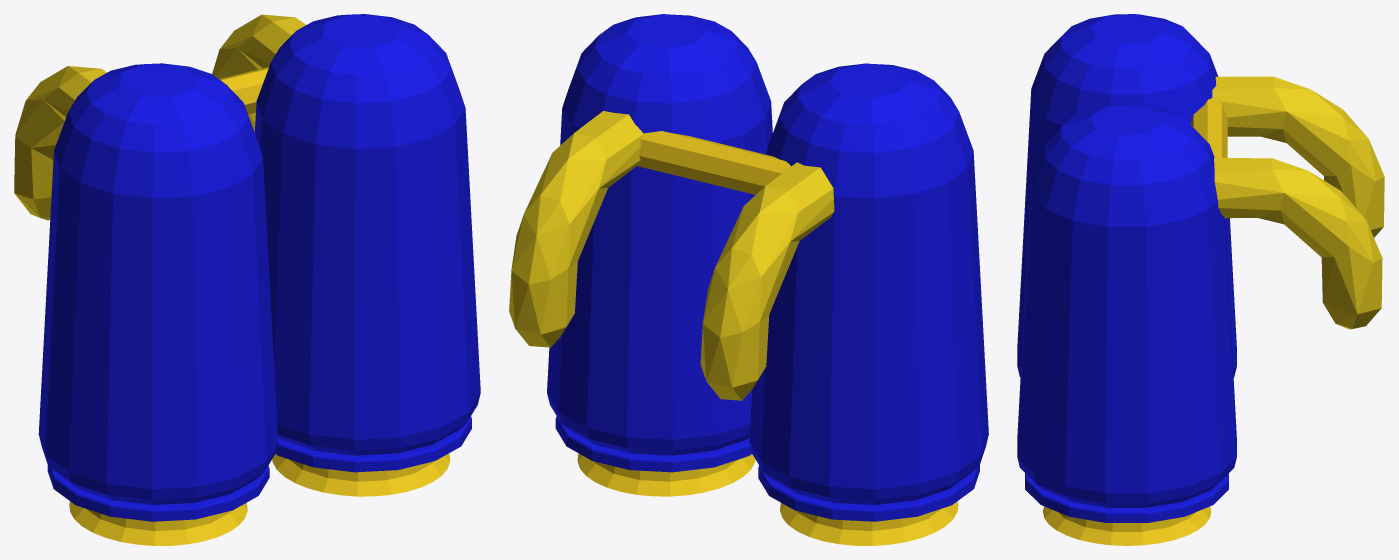
Rendered from reaktivnyranets2.fbx.
3 renders of one model, left to right at view 1: azimuth 30°, elevation 25°; view 2: azimuth 150°, elevation 25°; view 3: azimuth 270°, elevation 25°, orthographic. The views are drawn at different scales.
Visible parts, largest first — view 1: Cylinder.001, ручка.001, Cylinder; view 2: Cylinder.001, ручка.001, Cylinder; view 3: Cylinder.001, ручка.001, Cylinder.
Boxes of the visible parts, x1,y1,x2,y2 form: Cylinder.001: [38, 14, 480, 545]; ручка.001: [14, 14, 305, 220]; Cylinder: [219, 67, 268, 114]; Cylinder.001: [547, 14, 988, 545]; ручка.001: [509, 111, 834, 400]; Cylinder: [637, 131, 791, 194]; Cylinder.001: [1017, 14, 1236, 545]; ручка.001: [1212, 76, 1384, 329]; Cylinder: [1190, 98, 1227, 157].
Bounding box in the file's own units: 329 × 332 × 282.
